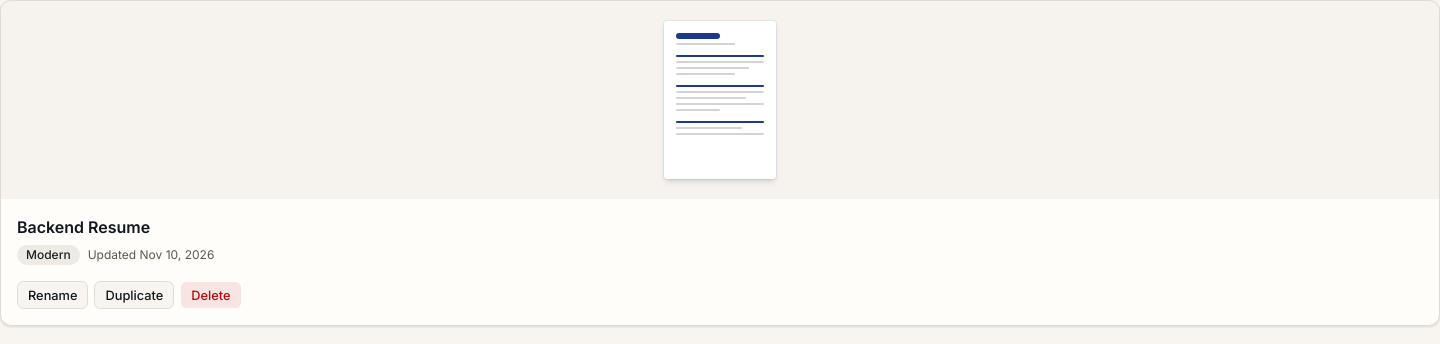
it: ResumeCard › can cancel a rename
What coordinates should you click on to do the following:
click the button "Rename"
I would click on:
 (53, 295)
Its box is [17,281,88,309].
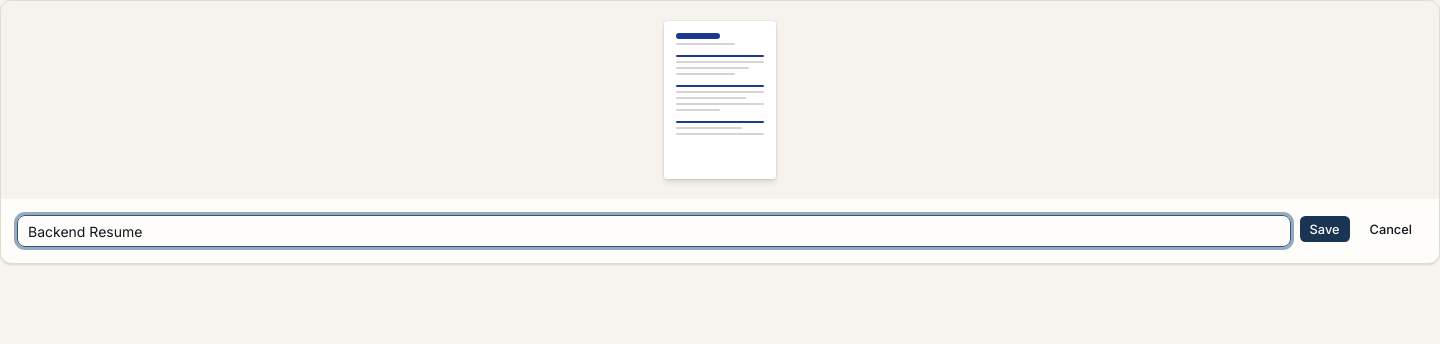
What coordinates should you click on to do the following:
click the button "Cancel"
I would click on:
 (1391, 229)
Its box is [1358,215,1423,243].
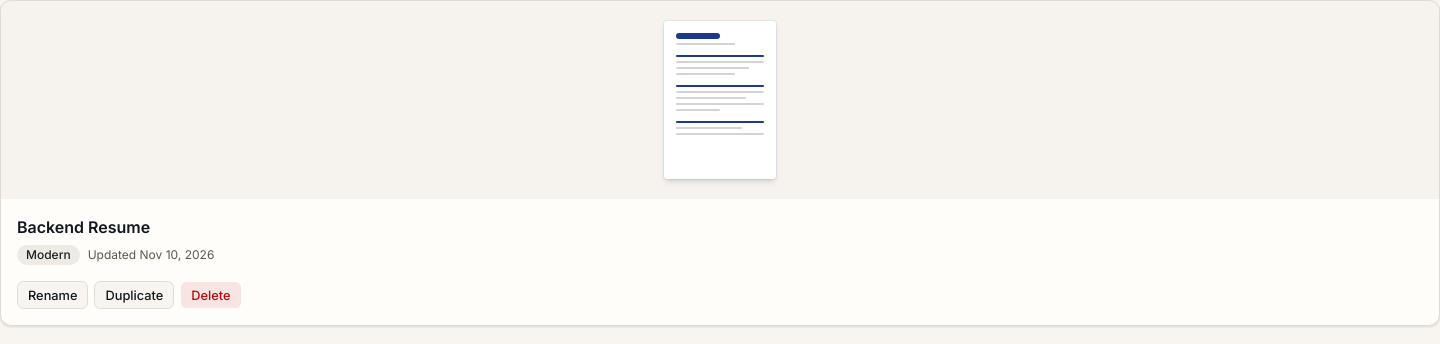
expect the field labelled "Resume title" is gone: met
